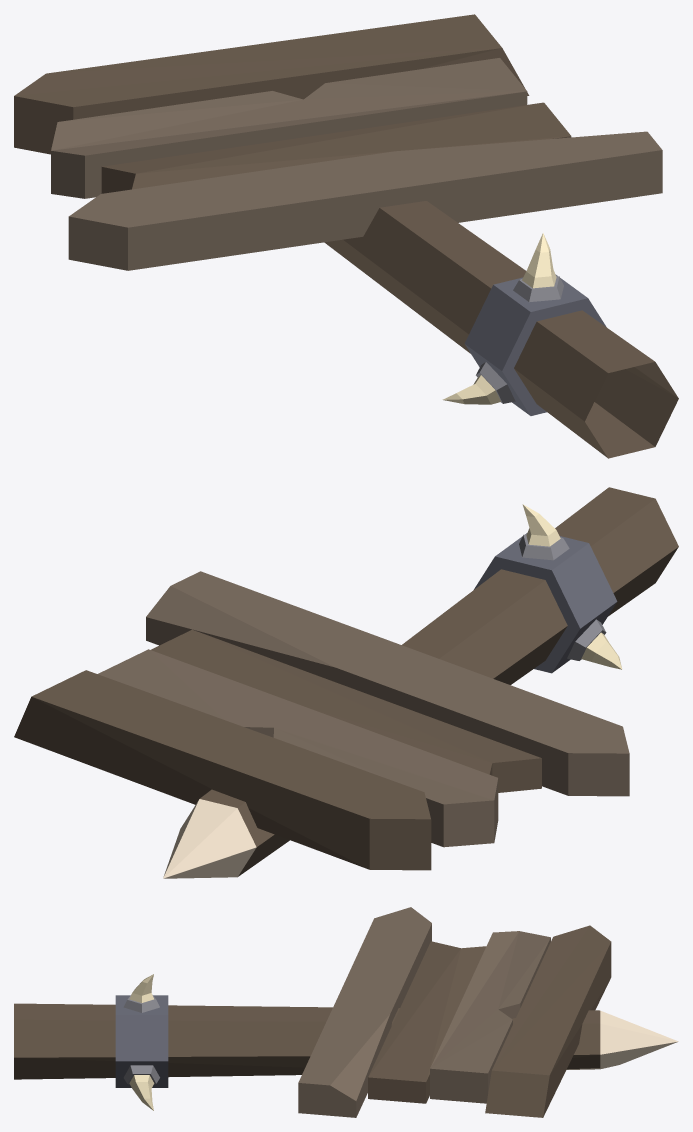
Rendered from pointer.glb.
The picture shows the model from 3 angles, top to bottom: view 1: azimuth 30°, elevation 25°; view 2: azimuth 150°, elevation 25°; view 3: azimuth 270°, elevation 25°; orthographic projection. The views are drawn at different scales.
Visible parts, largest first — view 1: pointer; view 2: pointer; view 3: pointer.
Boxes of the visible parts, x1,y1,x2,y2 form: pointer: (14,14,678,458); pointer: (14,487,678,878); pointer: (14,907,678,1117).
Size of the model in its own units: 1.16 by 0.3413 by 1.8.
Materials: 1 (1 with a texture image).
